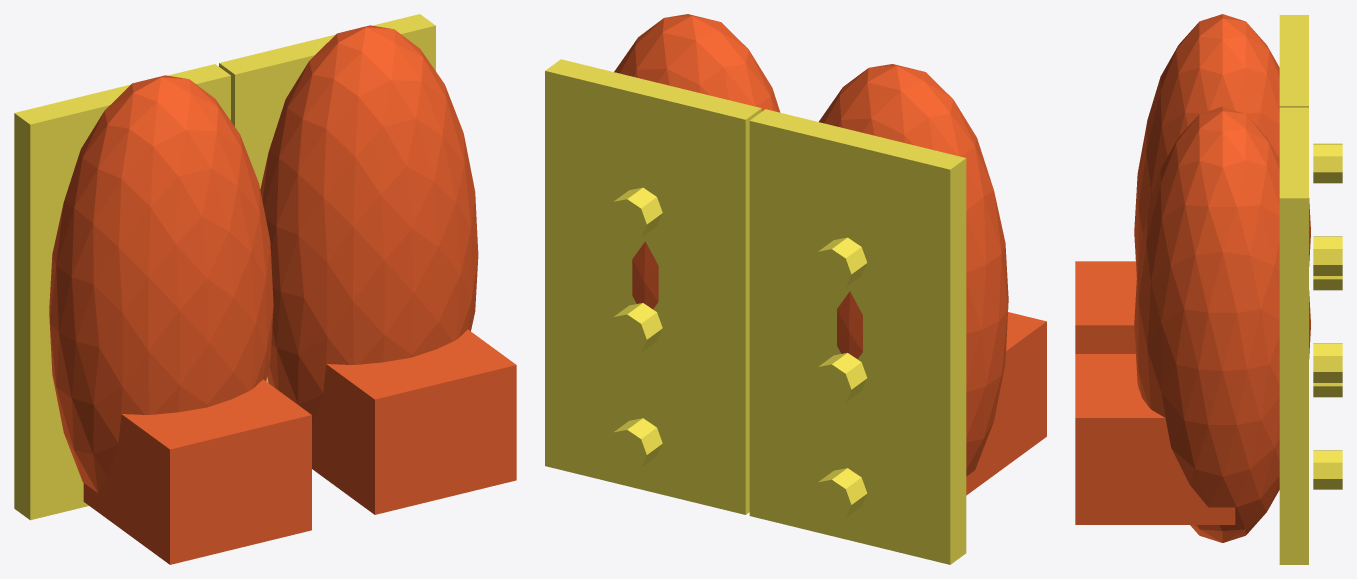
File: Speed_Boots_3D.glb
The picture shows the model from 3 angles, left to right: view 1: azimuth 30°, elevation 25°; view 2: azimuth 150°, elevation 25°; view 3: azimuth 270°, elevation 25°; orthographic projection. The views are drawn at different scales.
Visible parts, largest first — view 1: SpeedBoots_0, SpeedBoots_6, SpeedBoots_1, SpeedBoots_7, SpeedBoots_2, SpeedBoots_8; view 2: SpeedBoots_2, SpeedBoots_8, SpeedBoots_0, SpeedBoots_6, SpeedBoots_1, SpeedBoots_5, SpeedBoots_3, SpeedBoots_4, SpeedBoots_11, SpeedBoots_9, SpeedBoots_10; view 3: SpeedBoots_6, SpeedBoots_7, SpeedBoots_8, SpeedBoots_0, SpeedBoots_1, SpeedBoots_2, SpeedBoots_5, SpeedBoots_9, SpeedBoots_10, SpeedBoots_11, SpeedBoots_3, SpeedBoots_4.
Part boxes in pixels (x1,y1,x2,y2): SpeedBoots_0: [49, 75, 273, 492]; SpeedBoots_6: [260, 25, 478, 427]; SpeedBoots_1: [83, 379, 311, 564]; SpeedBoots_7: [312, 329, 516, 514]; SpeedBoots_2: [14, 64, 230, 520]; SpeedBoots_8: [219, 14, 435, 382]; SpeedBoots_2: [749, 109, 966, 564]; SpeedBoots_8: [545, 59, 761, 514]; SpeedBoots_0: [819, 64, 1008, 476]; SpeedBoots_6: [614, 14, 780, 309]; SpeedBoots_1: [966, 312, 1046, 495]; SpeedBoots_5: [812, 237, 867, 290]; SpeedBoots_3: [812, 468, 867, 520]; SpeedBoots_4: [812, 353, 867, 405]; SpeedBoots_11: [607, 187, 662, 240]; SpeedBoots_9: [607, 418, 662, 470]; SpeedBoots_10: [607, 303, 662, 355]; SpeedBoots_6: [1134, 106, 1310, 542]; SpeedBoots_7: [1075, 354, 1235, 524]; SpeedBoots_8: [1279, 107, 1308, 564]; SpeedBoots_0: [1134, 14, 1310, 277]; SpeedBoots_1: [1075, 261, 1136, 353]; SpeedBoots_2: [1279, 15, 1308, 107]; SpeedBoots_5: [1313, 143, 1342, 183]; SpeedBoots_9: [1313, 450, 1342, 489]; SpeedBoots_10: [1313, 343, 1342, 382]; SpeedBoots_11: [1313, 236, 1342, 275]; SpeedBoots_3: [1313, 383, 1342, 397]; SpeedBoots_4: [1313, 276, 1342, 290].
Size of the model in its own units: 0.52 by 0.56 by 0.3175.
